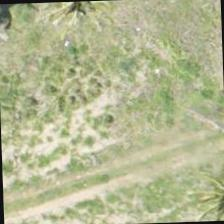Kelapa_Sawit: (178, 150, 223, 222)
